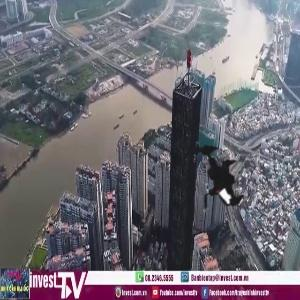drone: (158, 123, 270, 235)
